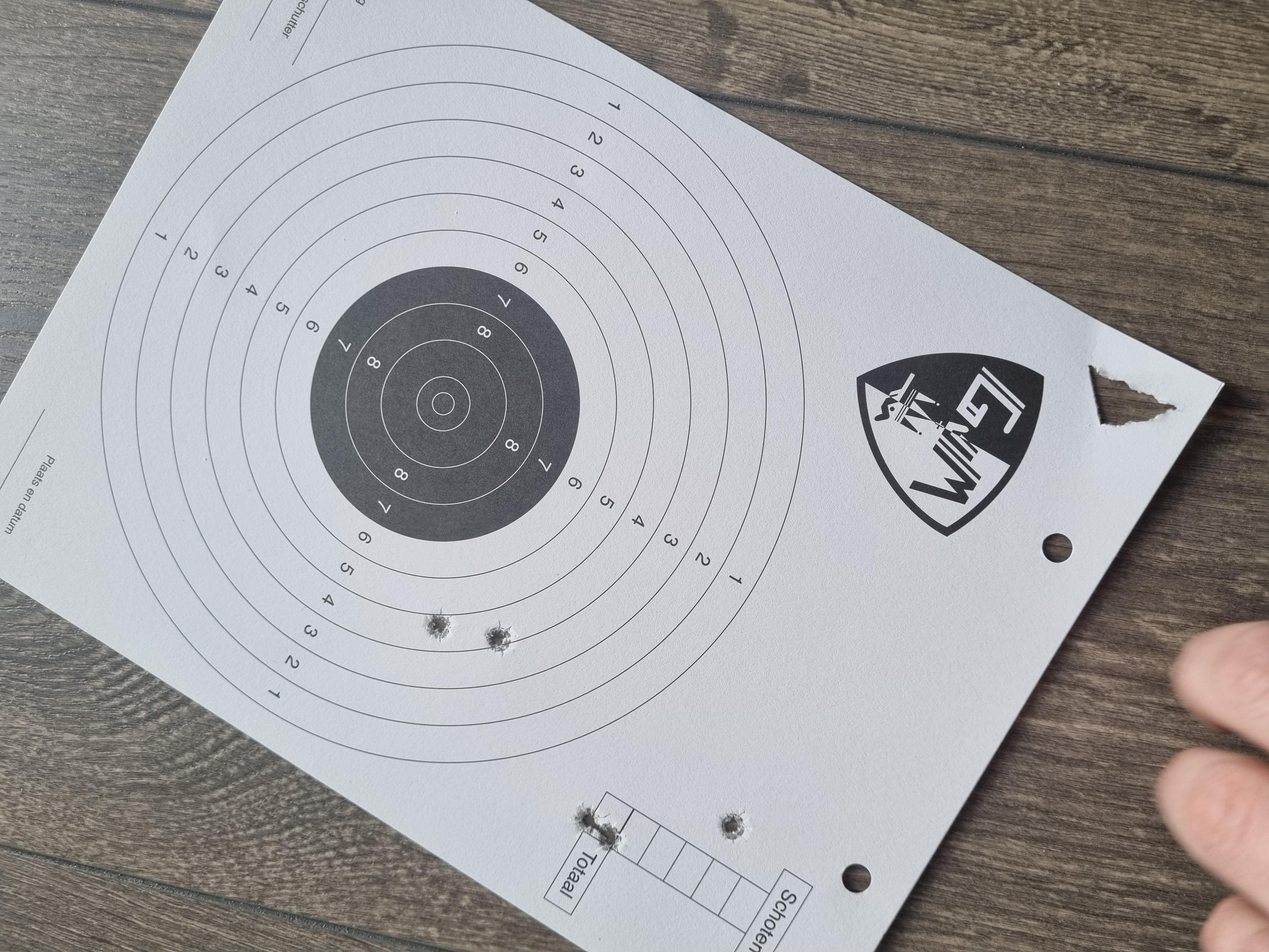hole: (147, 538, 189, 563), (393, 364, 442, 384), (154, 430, 200, 450), (417, 319, 458, 338), (136, 446, 172, 465)
